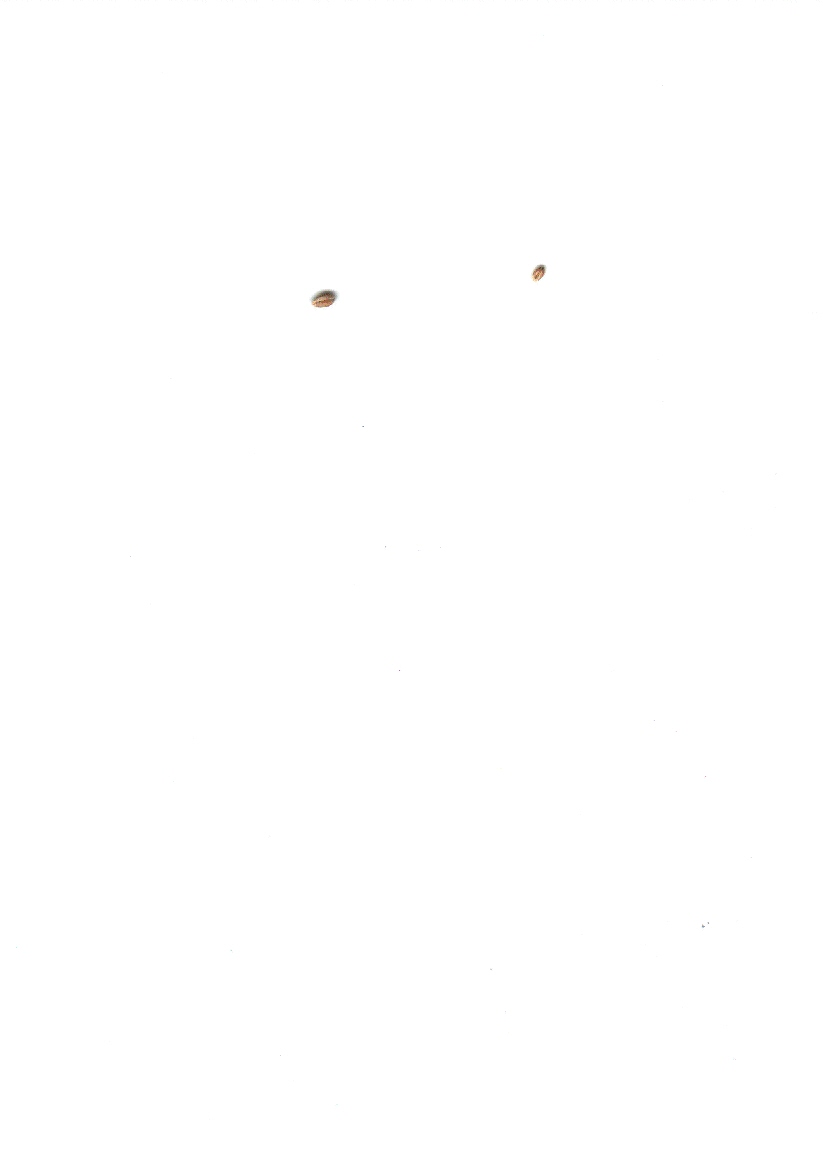grains: (299, 275, 354, 320), (516, 249, 571, 293)
